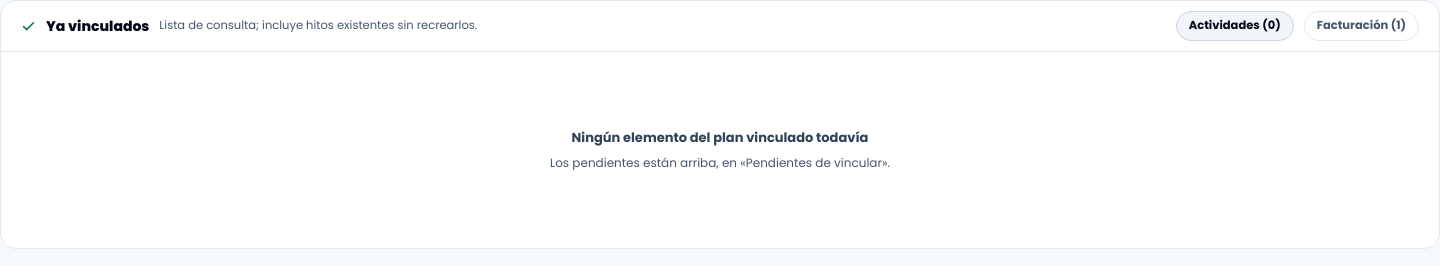
Scenario: consulta de referencias financieras existentes en JSM › conserva la lista anterior si no hay referencias adicionales
This screenshot has width=1440, height=266.
What coordinates should you click on to do the following:
click the button "Facturación (1)"
I would click on:
 (1361, 26)
Its box is [1304,11,1419,41].
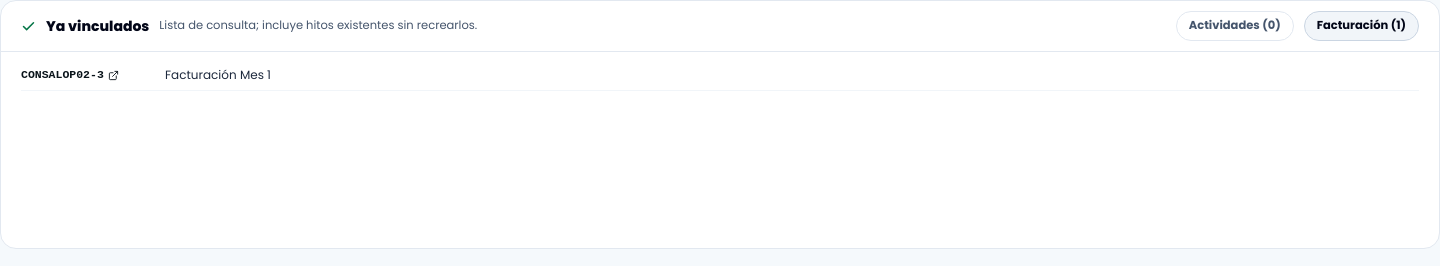
Now the link "CONSALOP02-3" is shown, box [21,68,119,81]
